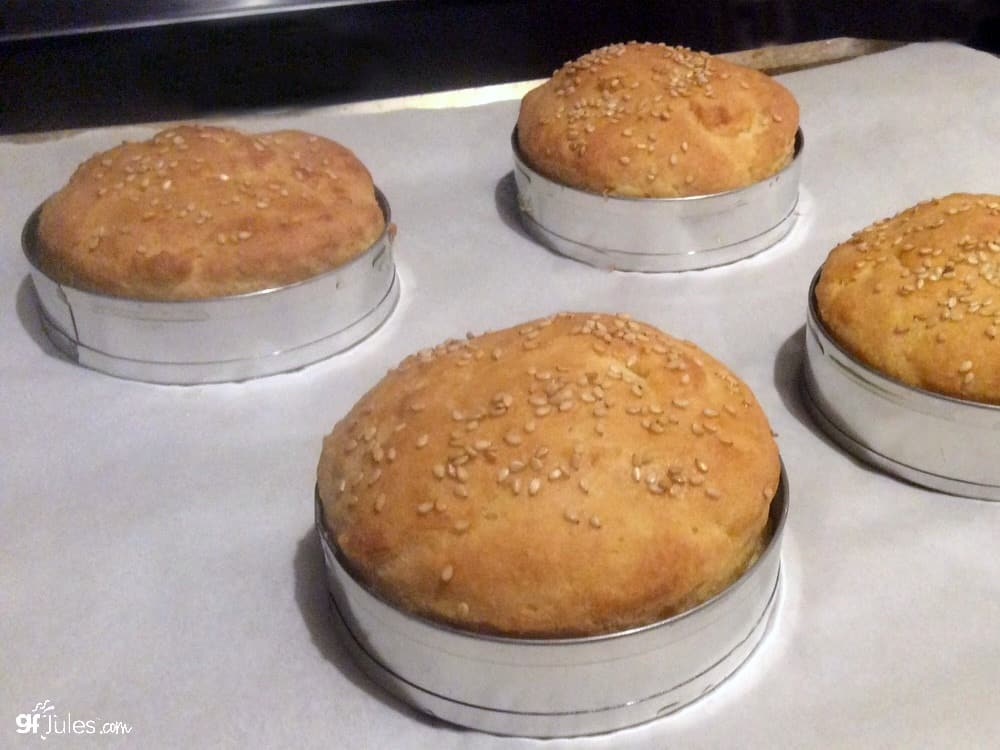hamburger_buns: (327, 312, 793, 640), (52, 109, 405, 328)
